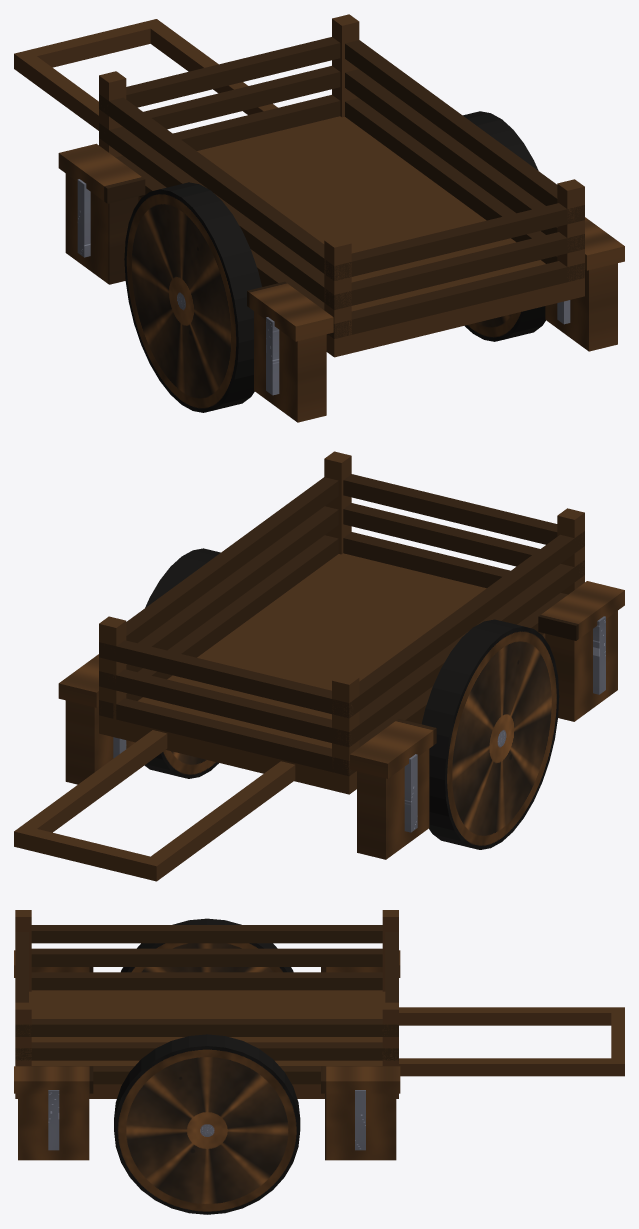
The model's file is holzwagen_t2_blur_bags.fbx.
3 renders of one model, top to bottom at view 1: azimuth 30°, elevation 25°; view 2: azimuth 150°, elevation 25°; view 3: azimuth 270°, elevation 25°, orthographic. The views are drawn at different scales.
Parts seen in each view (by area): view 1: Holzwagen_T2_blur; view 2: Holzwagen_T2_blur; view 3: Holzwagen_T2_blur.
Boxes of the visible parts, left/top/right/bottom form: Holzwagen_T2_blur: left=14, top=14, right=624, bottom=422; Holzwagen_T2_blur: left=14, top=451, right=624, bottom=881; Holzwagen_T2_blur: left=14, top=910, right=624, bottom=1214.
Bounding box in the file's own units: 114 × 77 × 223.
